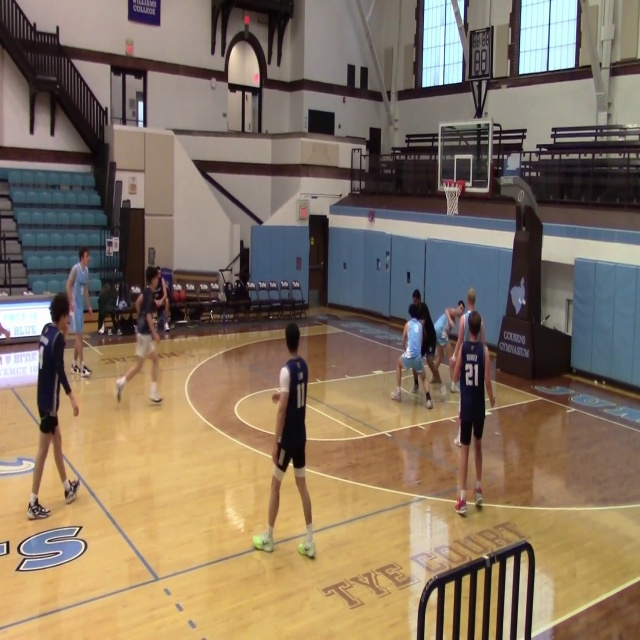Basketball: (272, 391, 280, 404), (449, 356, 456, 366)
